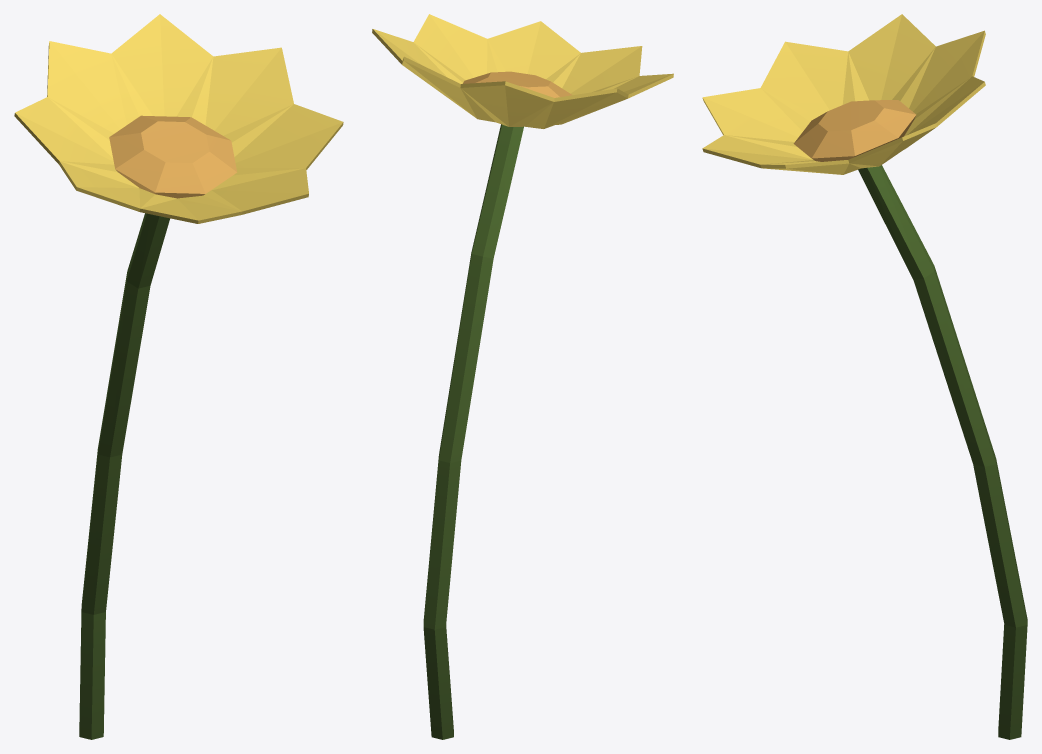
The model's file is Env_Flowers_05.obj.
3 renders of one model, left to right at view 1: azimuth 30°, elevation 25°; view 2: azimuth 150°, elevation 25°; view 3: azimuth 270°, elevation 25°, orthographic. The views are drawn at different scales.
Visible parts, largest first — view 1: Env_Flowers_05; view 2: Env_Flowers_05; view 3: Env_Flowers_05.
Boxes of the visible parts, box(x1,y1,x2,y2) form: Env_Flowers_05: box(14, 14, 343, 739); Env_Flowers_05: box(372, 14, 673, 739); Env_Flowers_05: box(702, 14, 1027, 739).
Bounding box in the file's own units: 0.1996 × 0.5118 × 0.2224.
1 material, 1 textured.
